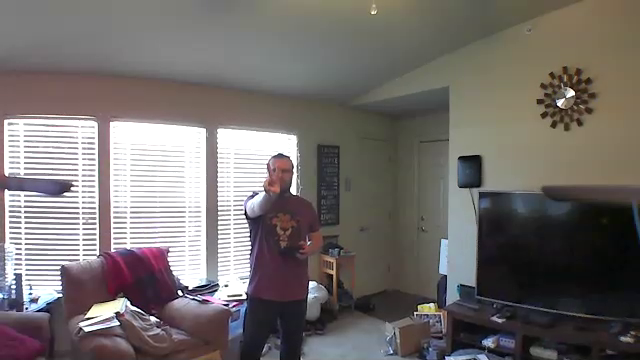peace: (256, 156, 285, 202)
